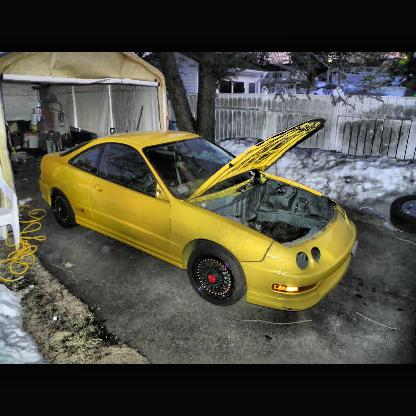Acura Integra Type R 2001: (42, 118, 359, 316)
